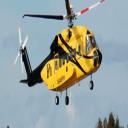helicopter: (14, 1, 99, 107)
